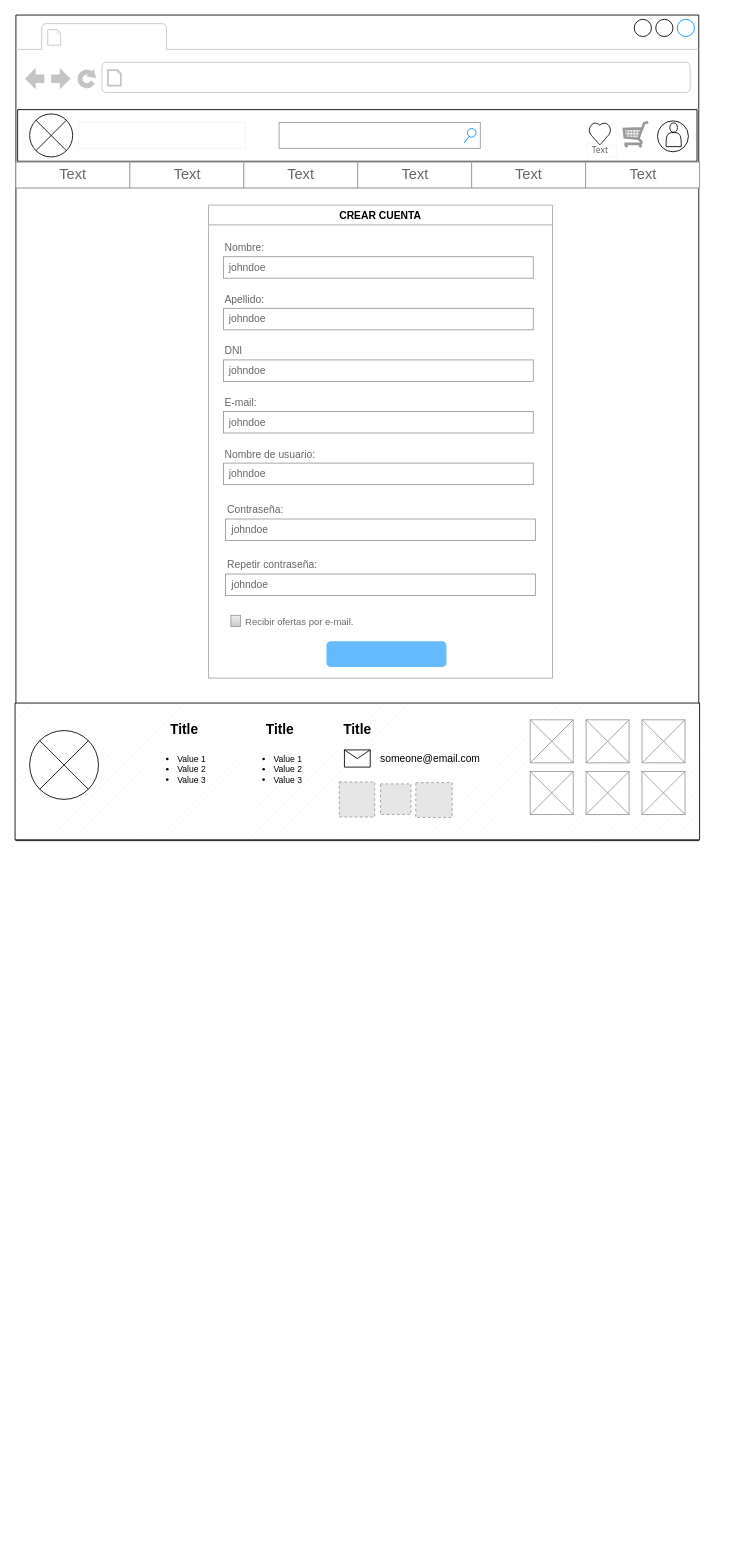
Image size: 753x1559. Some labels were removed from this diagram. Grey dashed boxes stand in for pictures. The shapes that lost their labels are listed below. From the top down, each one's box as (x1, y1, x2, y2) in pixels, then its label:
(67, 25, 162, 48): Page 1
(127, 66, 343, 89): https://www.draw.io
(78, 122, 246, 148): Casa Blanca
(278, 122, 480, 148): Search
(326, 641, 446, 666): SIGN UP
